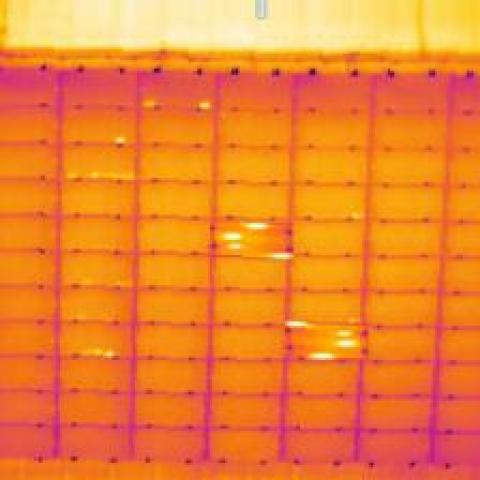fault: (62, 169, 135, 182), (75, 345, 122, 358), (236, 216, 278, 230), (197, 94, 220, 118), (300, 349, 339, 362), (330, 336, 366, 350), (264, 248, 296, 262), (281, 317, 315, 330), (214, 229, 244, 242), (218, 240, 246, 251), (138, 94, 159, 107), (332, 328, 358, 338), (112, 130, 128, 146), (347, 208, 362, 223)
